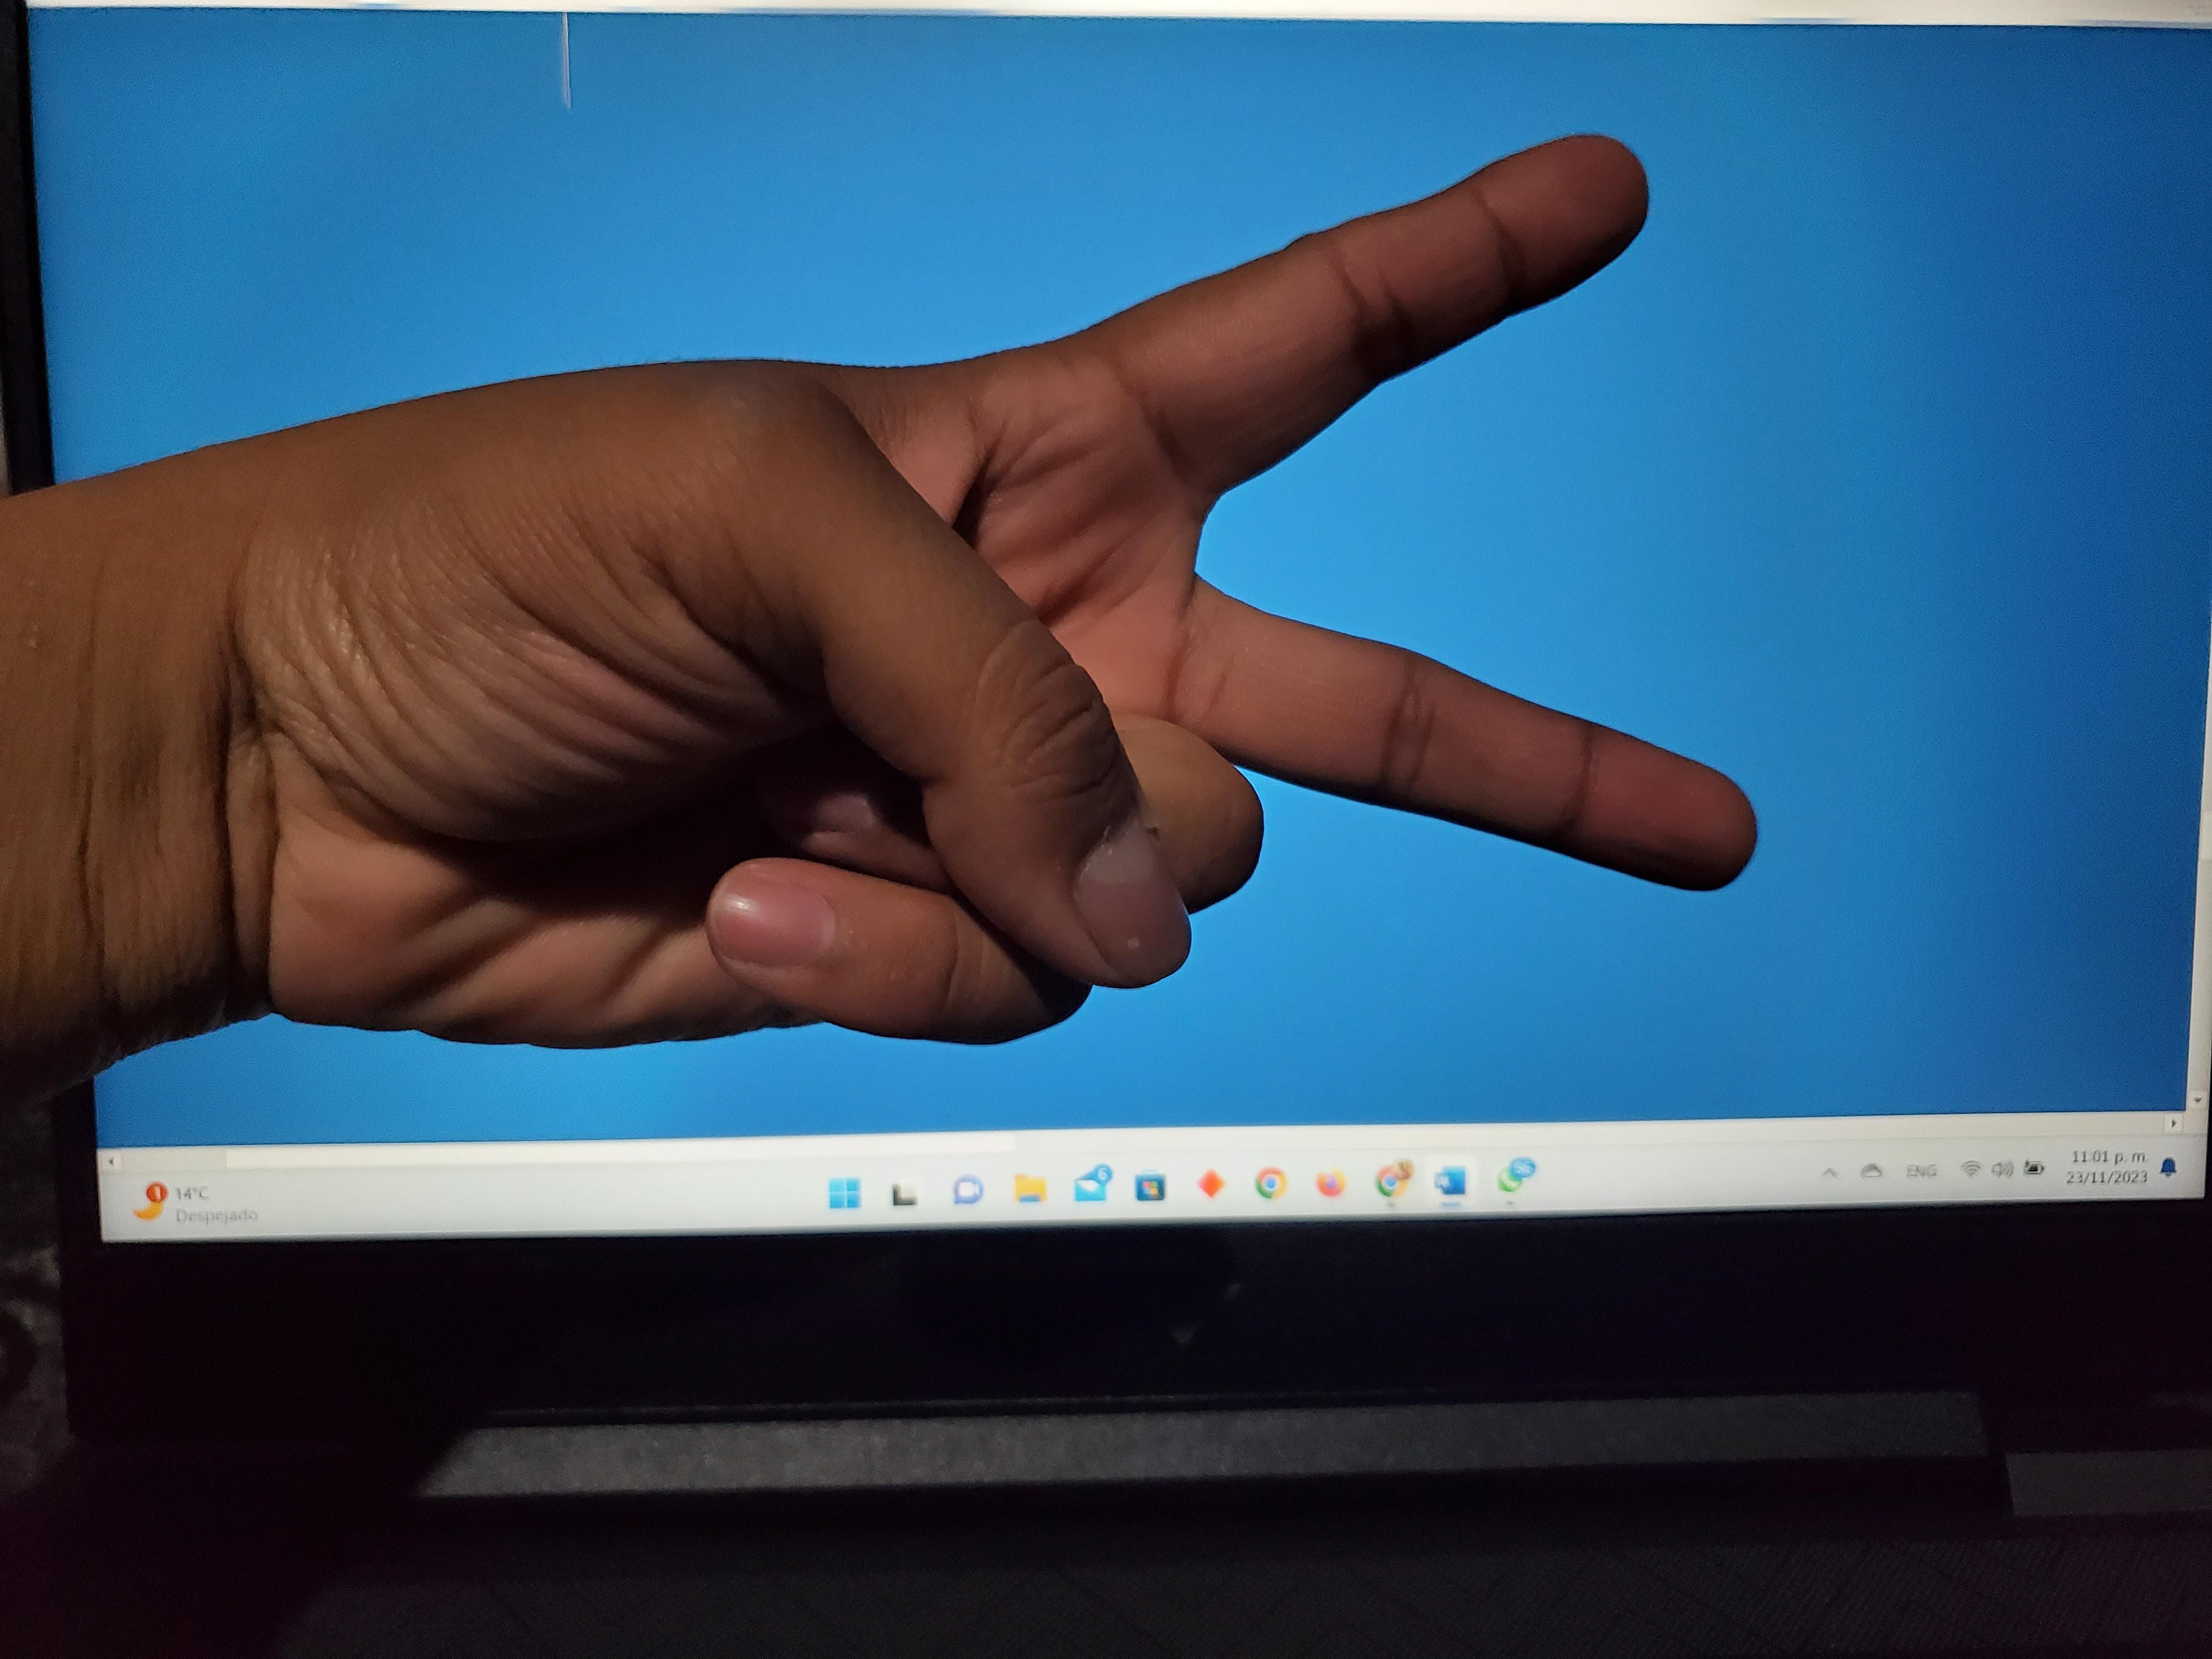Scissor: (0, 23, 1900, 1150)
